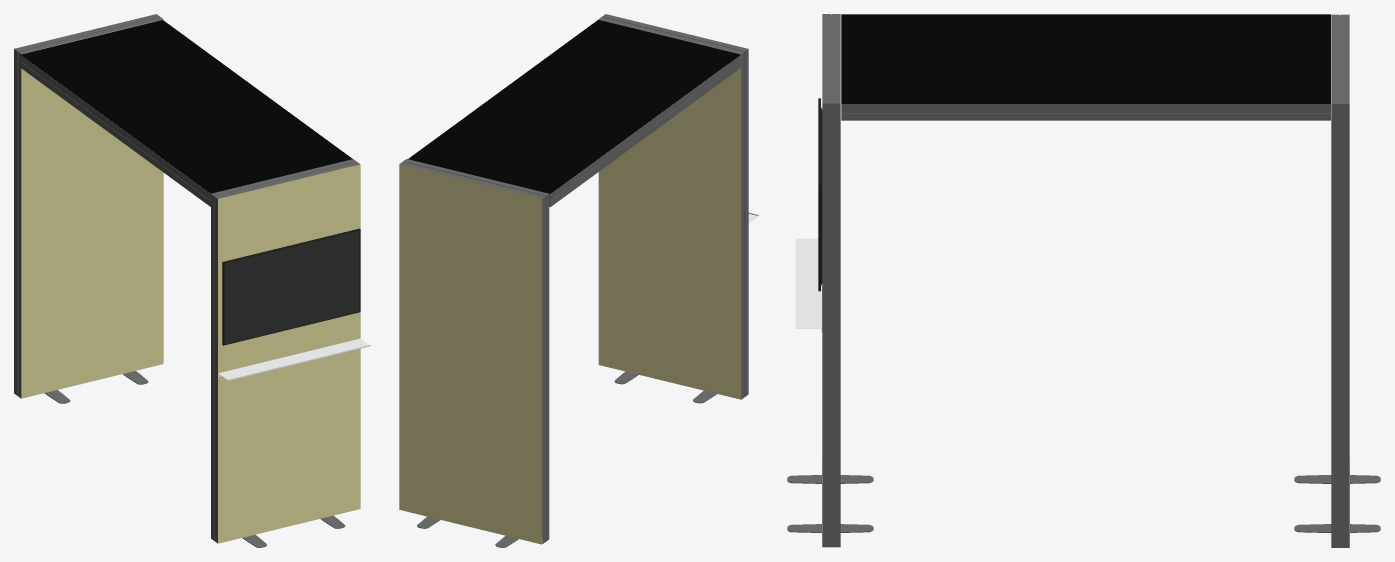
Rendered from 3.5ft Arch Lightbox.glb.
3 renders of one model, left to right at view 1: azimuth 30°, elevation 25°; view 2: azimuth 150°, elevation 25°; view 3: azimuth 270°, elevation 25°, orthographic. The views are drawn at different scales.
Visible parts, largest first — view 1: Bridge; view 2: Bridge; view 3: Bridge, toggle_feet_center.023.
Part boxes in pixels (x1,y1,x2,y2): Bridge: (14,14,370,547); Bridge: (399,14,758,544); Bridge: (787,14,1349,547); toggle_feet_center.023: (1294,475,1380,532).
Size of the model in its own units: 1.06 by 2.44 by 2.95.
6 materials, 1 textured.
